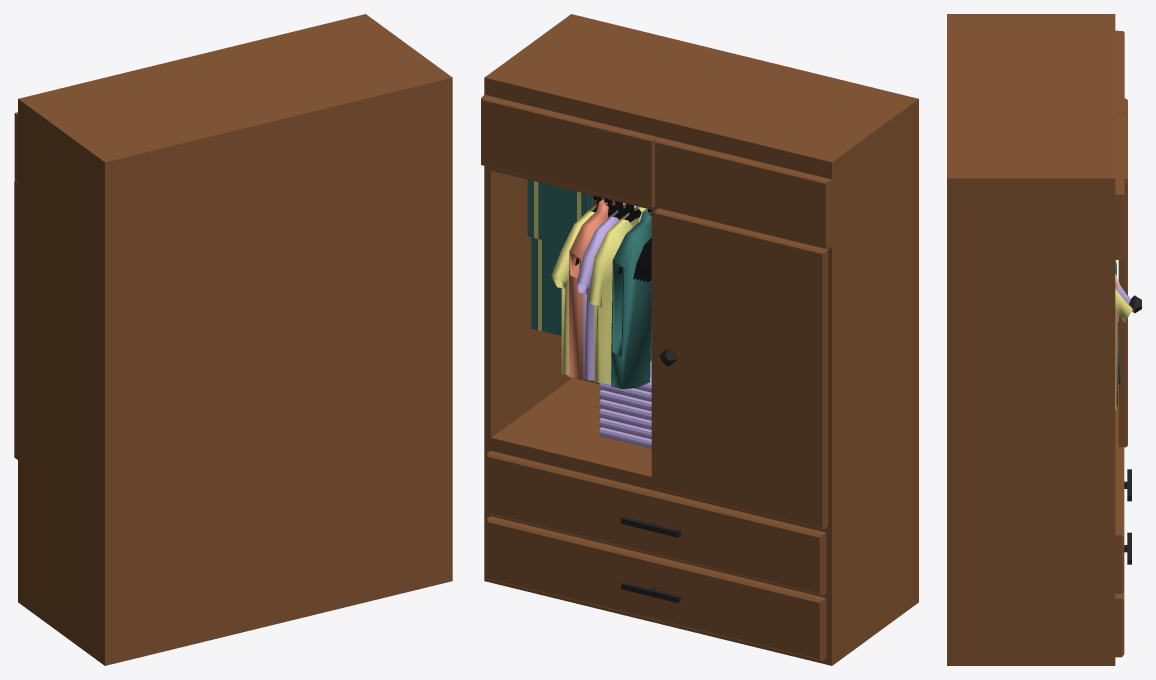
The model's file is wardrobe.fbx.
3 views of the same model, side by side, from view 1: azimuth 30°, elevation 25°; view 2: azimuth 150°, elevation 25°; view 3: azimuth 270°, elevation 25° (orthographic). The views are drawn at different scales.
Parts seen in each view (by area): view 1: Cube.013, Cube.025; view 2: Cube.013, Cube.025, Plane.022, Plane.014, Plane.026, Cube.037, Plane.018, Plane.024, Plane.019; view 3: Cube.013, Cube.025, Plane.019.
Part boxes in pixels (x1=…): Cube.013: x1=14, y1=14, x2=452, y2=665; Cube.025: x1=14, y1=180, x2=17, y2=459; Cube.013: x1=481, y1=14, x2=918, y2=665; Cube.025: x1=654, y1=208, x2=828, y2=529; Plane.022: x1=611, y1=209, x2=651, y2=388; Plane.014: x1=527, y1=179, x2=592, y2=335; Plane.026: x1=588, y1=206, x2=646, y2=383; Cube.037: x1=599, y1=360, x2=651, y2=448; Plane.018: x1=569, y1=198, x2=625, y2=378; Plane.024: x1=576, y1=204, x2=636, y2=380; Plane.019: x1=551, y1=204, x2=596, y2=375; Cube.013: x1=947, y1=14, x2=1131, y2=665; Cube.025: x1=1118, y1=98, x2=1141, y2=447; Plane.019: x1=1115, y1=289, x2=1132, y2=410.
Size of the model in its own units: 139 by 193 by 69.74.
